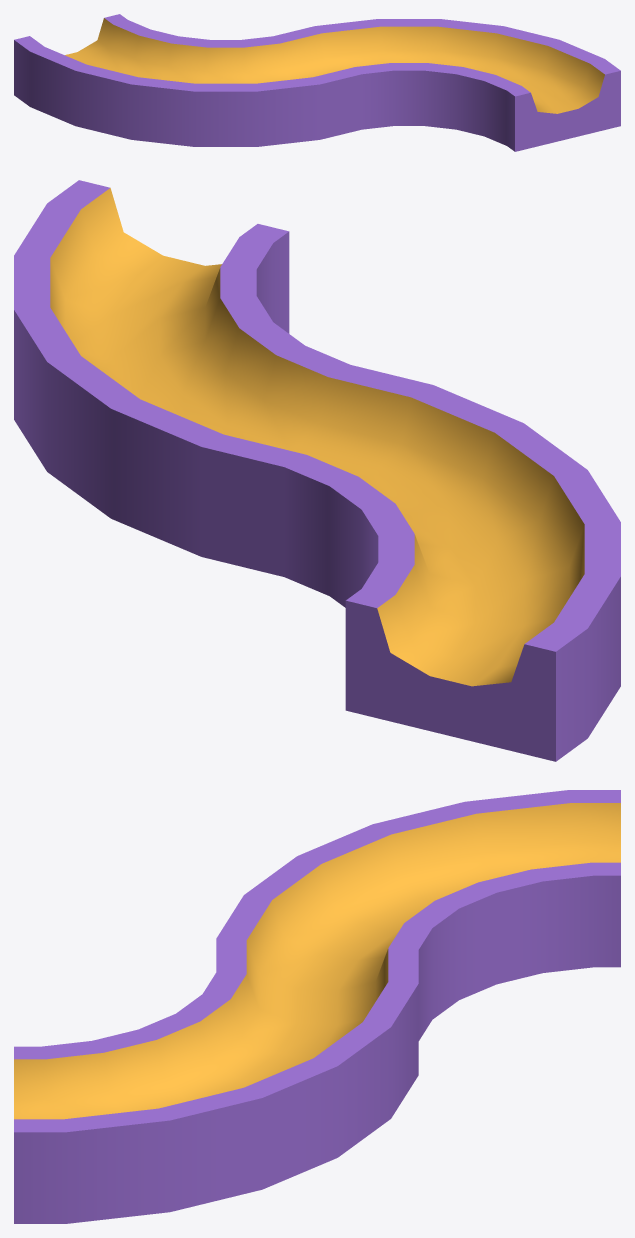
File: s-curve-left.glb
3 views of the same model, one above another, from view 1: azimuth 30°, elevation 25°; view 2: azimuth 150°, elevation 25°; view 3: azimuth 270°, elevation 25° (orthographic). The views are drawn at different scales.
Parts seen in each view (by area): view 1: s-curve-left; view 2: s-curve-left; view 3: s-curve-left.
Part boxes in pixels (left/top/right/bottom): s-curve-left: left=14, top=14, right=620, bottom=151; s-curve-left: left=14, top=180, right=620, bottom=761; s-curve-left: left=14, top=790, right=620, bottom=1223.
Size of the model in its own units: 4 by 0.5 by 3.
1 material, 1 textured.
